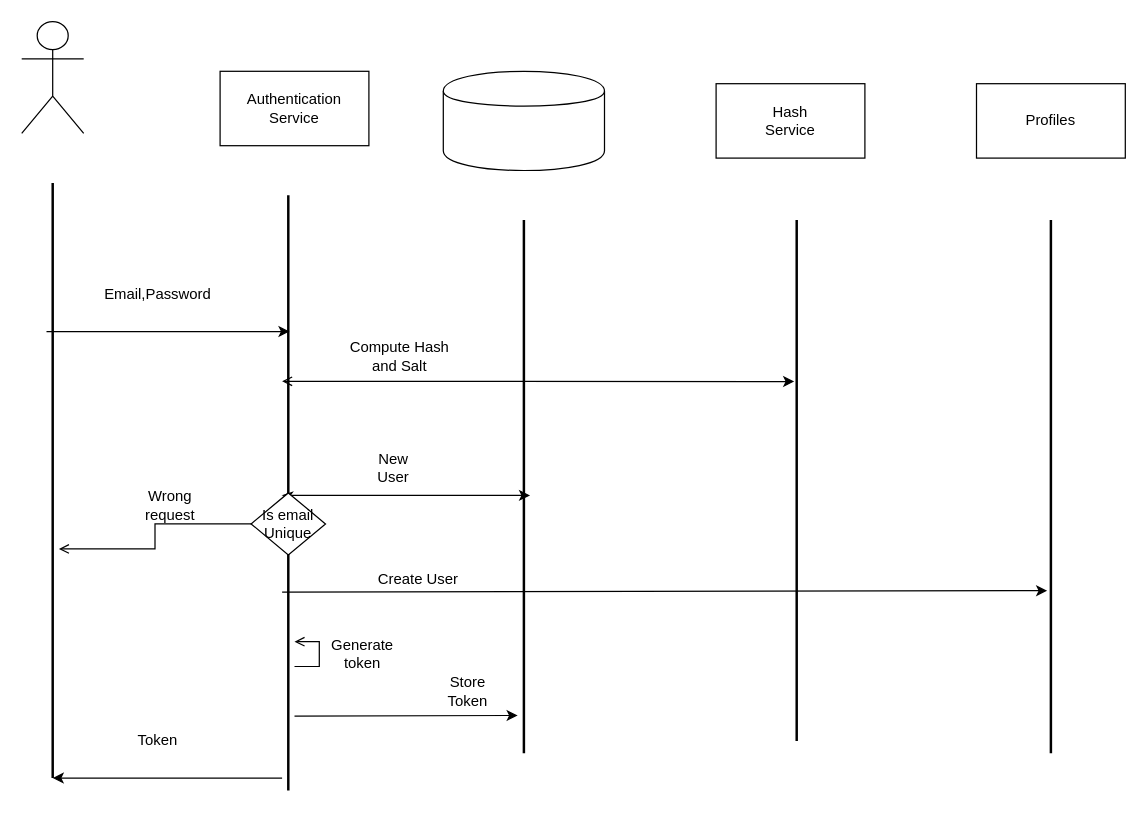
Some shapes in this 1147 by 813 pixel diagram are drawn without their labels. Here are the shapes that lost their labels. From the top down, the box of each, then its label:
(20, 20, 84, 133): User
(442, 70, 604, 170): Auth DBA
